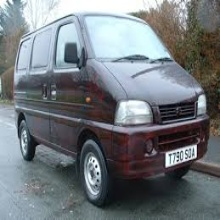no damage: (12, 12, 212, 207)
